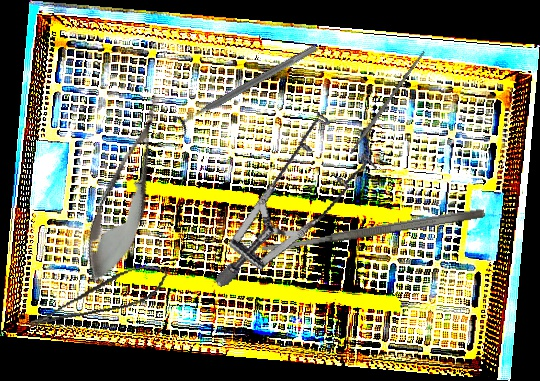Fixation Ring: (170, 36, 323, 139)
Micro Scissor: (72, 88, 181, 291), (22, 259, 174, 332)
Scalpel Handle: (347, 50, 427, 155)
Spatula Surgical: (259, 207, 486, 255)
Speculum: (177, 100, 397, 289)
